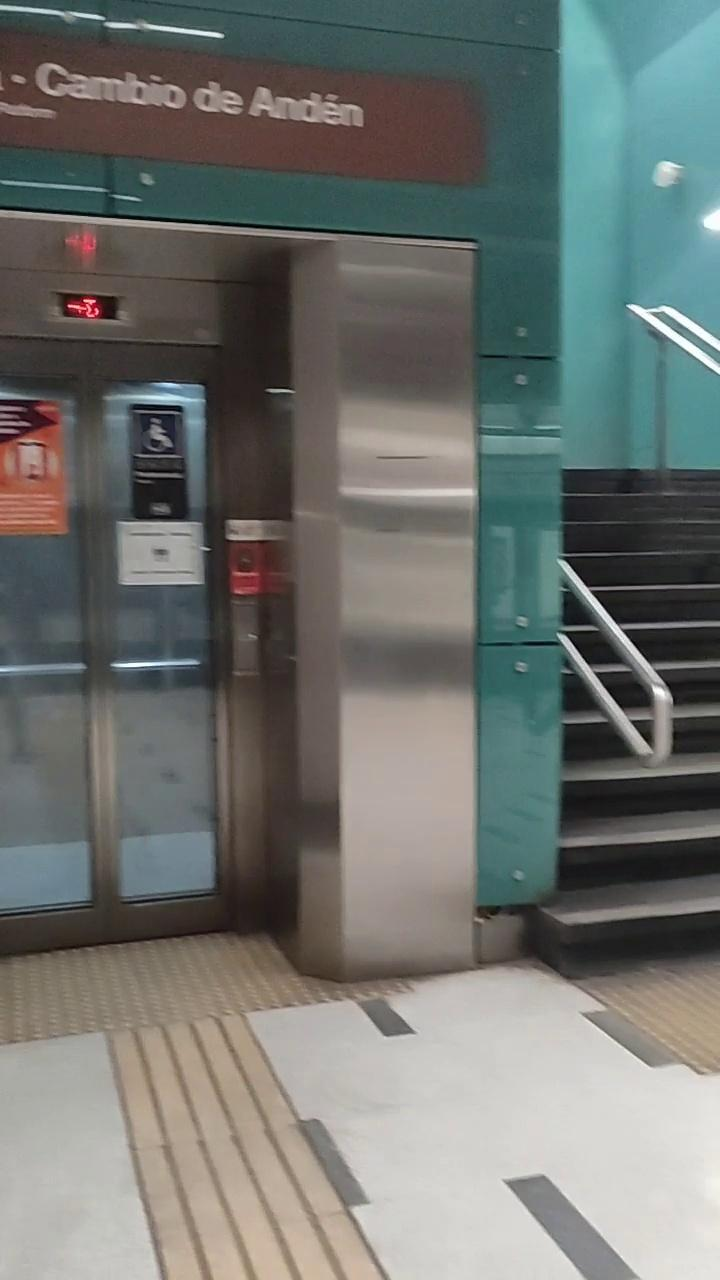handicapped symbol: (136, 408, 180, 472)
